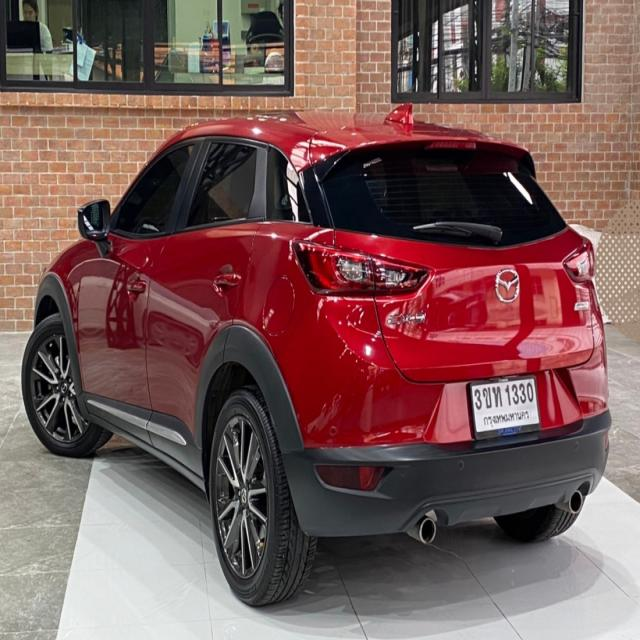license_plate: (466, 372, 543, 441)
